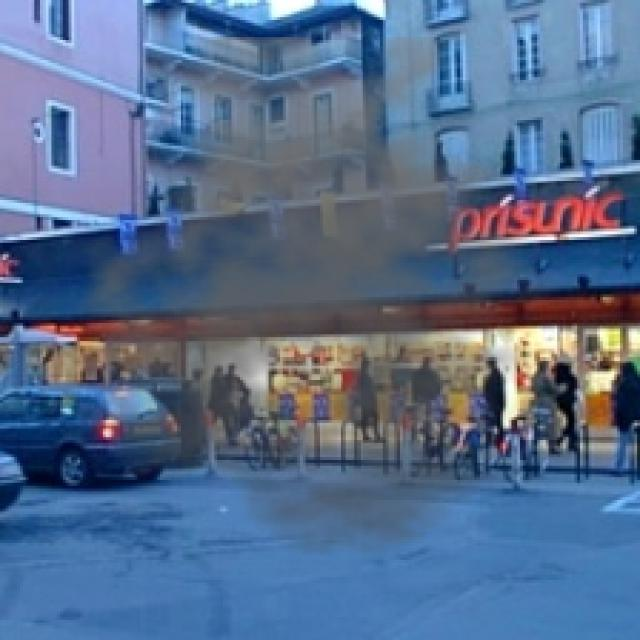smoke: (57, 37, 589, 557)
